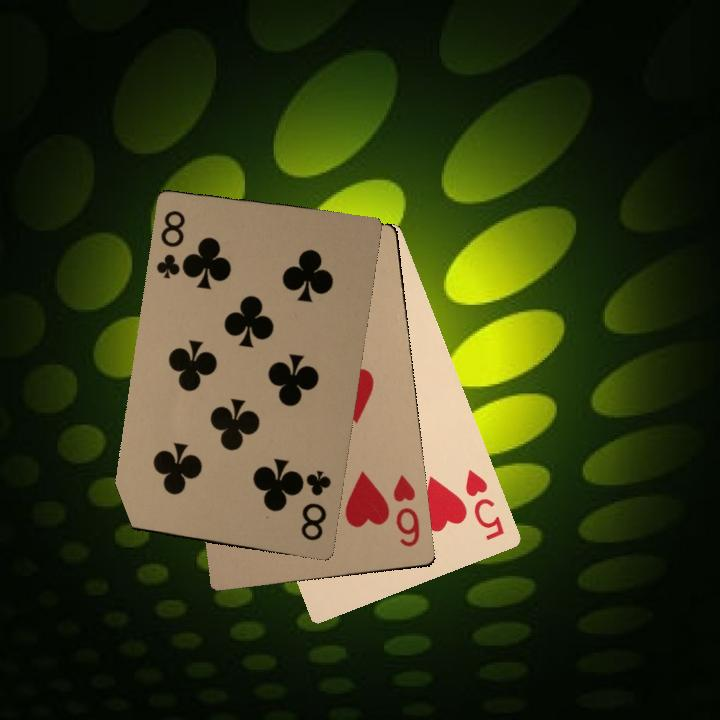5h: (461, 465, 507, 543)
6h: (389, 474, 422, 549)
8c: (152, 206, 192, 281), (297, 466, 334, 543)
